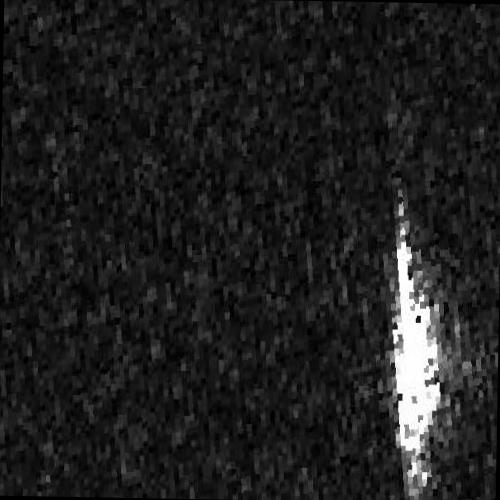ship: (391, 194, 442, 483)
